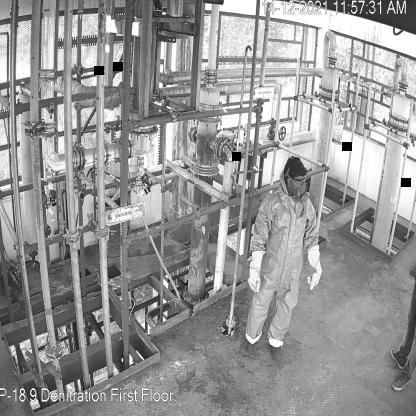mask: (294, 182, 311, 206)
